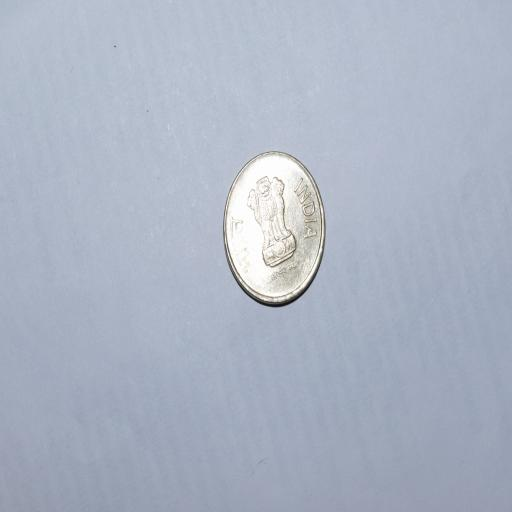rupee5: (221, 151, 326, 308)
